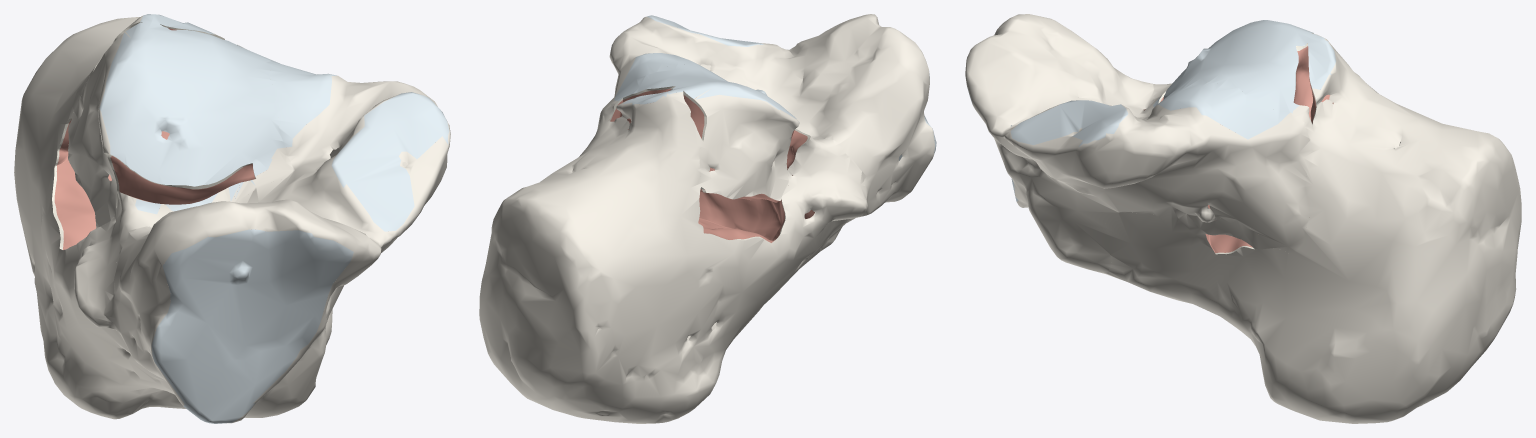
Rendered from S-IIB_elderly.glb.
3 renders of one model, left to right at view 1: azimuth 30°, elevation 25°; view 2: azimuth 150°, elevation 25°; view 3: azimuth 270°, elevation 25°, orthographic. The views are drawn at different scales.
Visible parts, largest first — view 1: calcaneus: sustentacular fragment, calcaneus: tuberosity, calcaneus: depressed lateral joint fragment; view 2: calcaneus: tuberosity, calcaneus: sustentacular fragment, calcaneus: depressed lateral joint fragment; view 3: calcaneus: tuberosity, calcaneus: sustentacular fragment, calcaneus: depressed lateral joint fragment.
Boxes of the visible parts, box(x1,y1,x2,y2) form: calcaneus: sustentacular fragment: box(104, 57, 450, 423); calcaneus: tuberosity: box(14, 14, 332, 419); calcaneus: depressed lateral joint fragment: box(68, 21, 287, 228); calcaneus: tuberosity: box(479, 89, 867, 423); calcaneus: sustentacular fragment: box(591, 14, 936, 252); calcaneus: depressed lateral joint fragment: box(615, 64, 799, 202); calcaneus: tuberosity: box(1105, 33, 1521, 423); calcaneus: sustentacular fragment: box(965, 14, 1313, 275); calcaneus: depressed lateral joint fragment: box(1163, 20, 1333, 223).
Bounding box in the file's own units: 0.0475 × 0.0513 × 0.0757.
